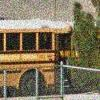buses: (0, 21, 74, 100)
